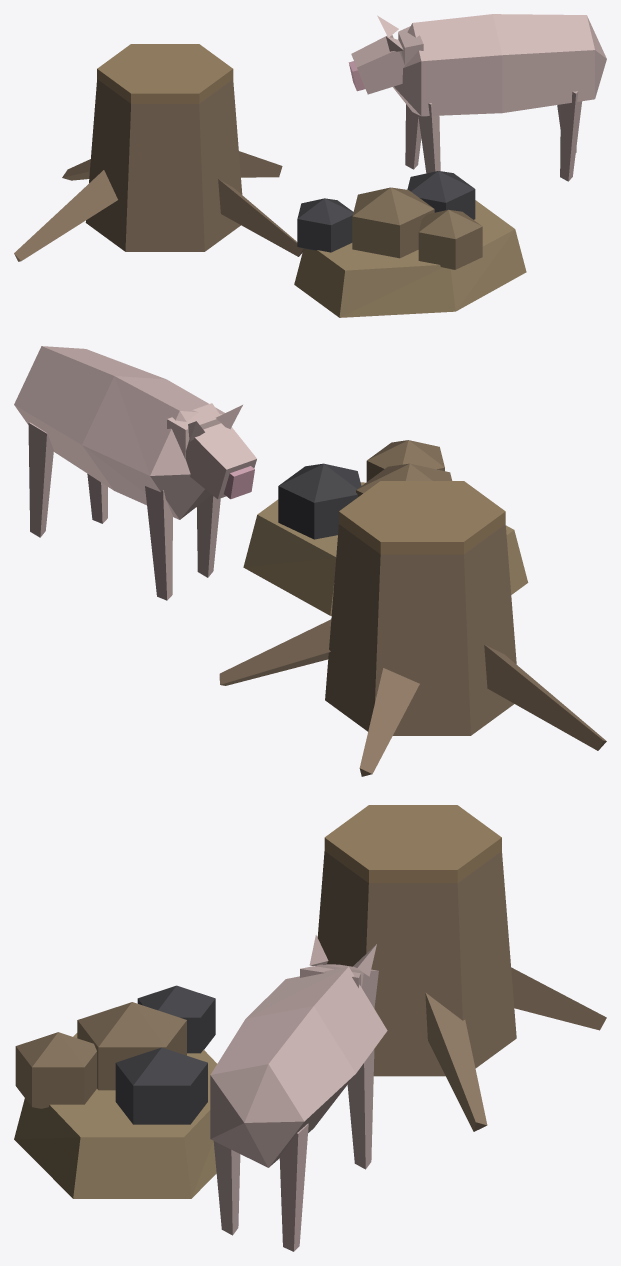
File: truffles.glb
3 renders of one model, top to bottom at view 1: azimuth 30°, elevation 25°; view 2: azimuth 150°, elevation 25°; view 3: azimuth 270°, elevation 25°, orthographic. The views are drawn at different scales.
Visible parts, largest first — view 1: LOD0; view 2: LOD0; view 3: LOD0.
Boxes of the visible parts, box(x1,y1,x2,y2) form: LOD0: box(14, 14, 606, 317); LOD0: box(14, 346, 606, 776); LOD0: box(14, 805, 606, 1251).
Size of what is drawn, in the model's own units: 0.6434 by 0.2098 by 0.4812.
